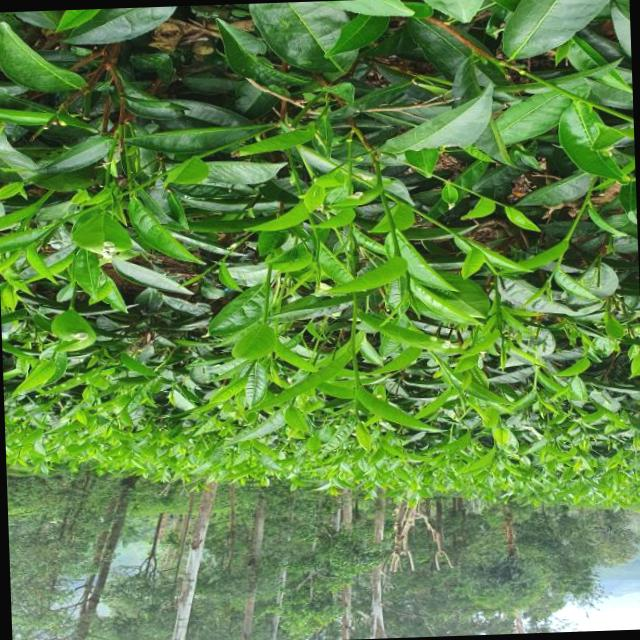Stem: (499, 334, 505, 340), (243, 371, 248, 376), (313, 256, 317, 262), (405, 287, 409, 292), (546, 276, 550, 281)
